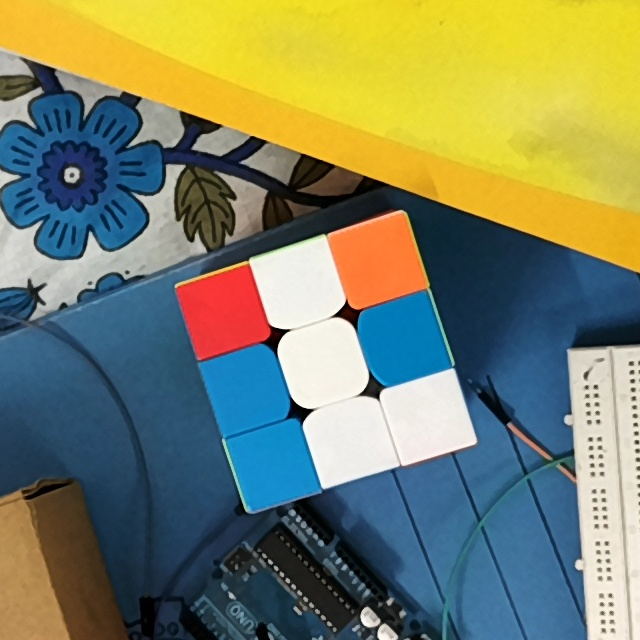tile: (348, 231, 409, 291), (399, 387, 459, 447), (375, 309, 434, 370), (319, 411, 381, 469), (292, 334, 351, 392), (218, 358, 276, 417), (192, 284, 252, 341), (243, 437, 303, 494), (268, 258, 329, 313)
